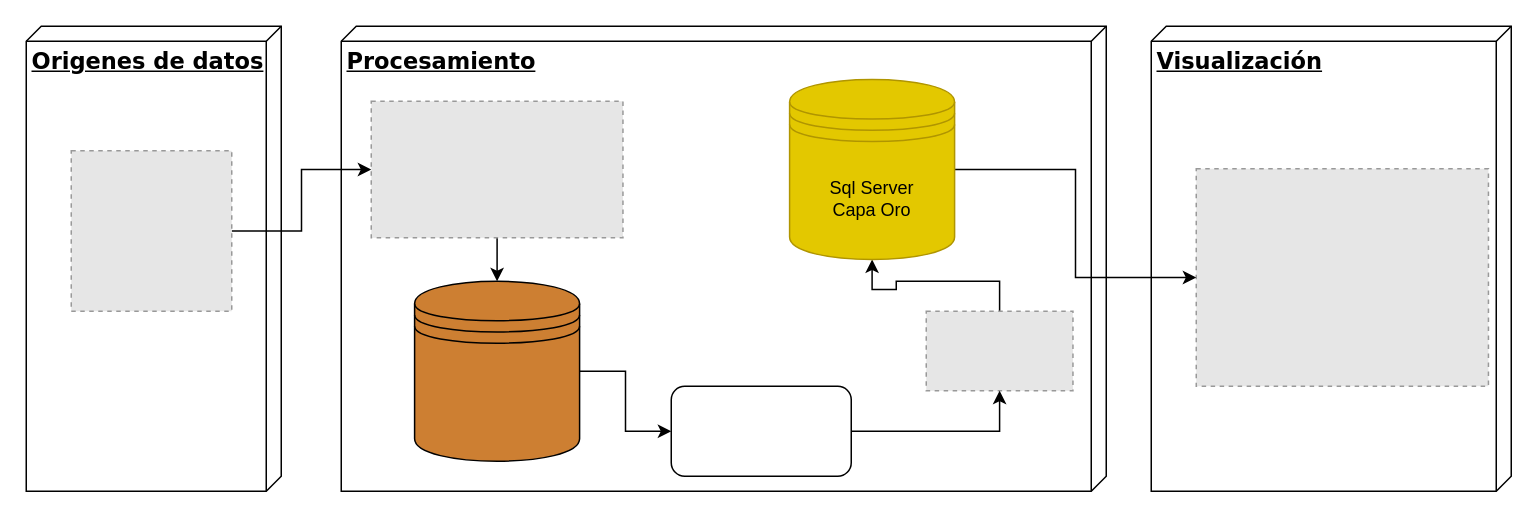
Image size: 1538x518. Some labels were removed from this diagram. Grey dashed boxes stand in for pictures. The shapes that lost their labels are listed below. From the top down, each one's centre as x and y in pixels, then its label:
At point (496, 370): "Sql Server Capa Bronce".
At point (760, 430): "Limpieza y tratamiento de datos".
